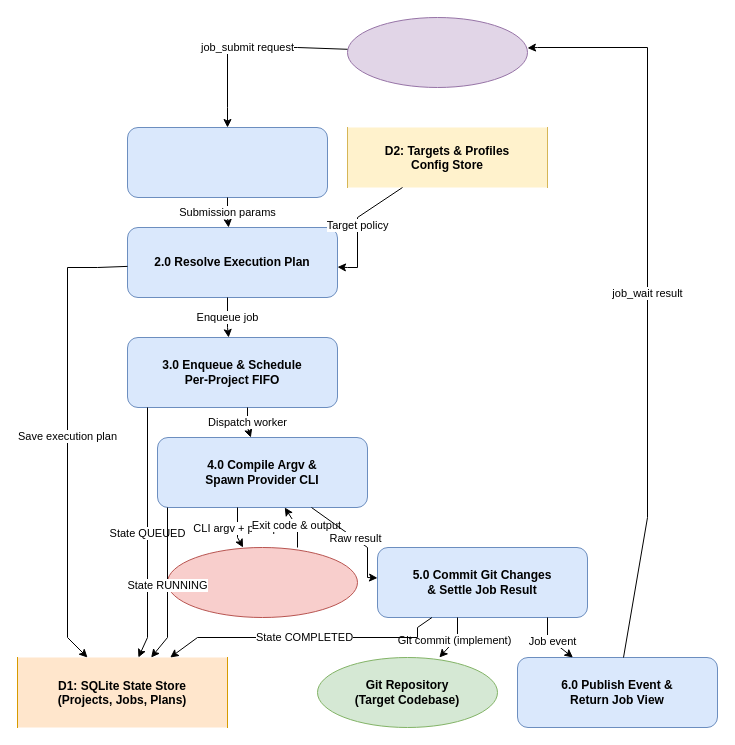
The diagram is 735 pixels wide and 745 high, and some of its shapes have lost their labels. Each missing label, with the centre of its shape:
"1.0 Register Project & Validate Request" belongs at point (227, 162).
"Provider CLI & LLM (AGY / Codex / Pi)" belongs at point (262, 582).
"Refract Client / User" belongs at point (437, 52).
